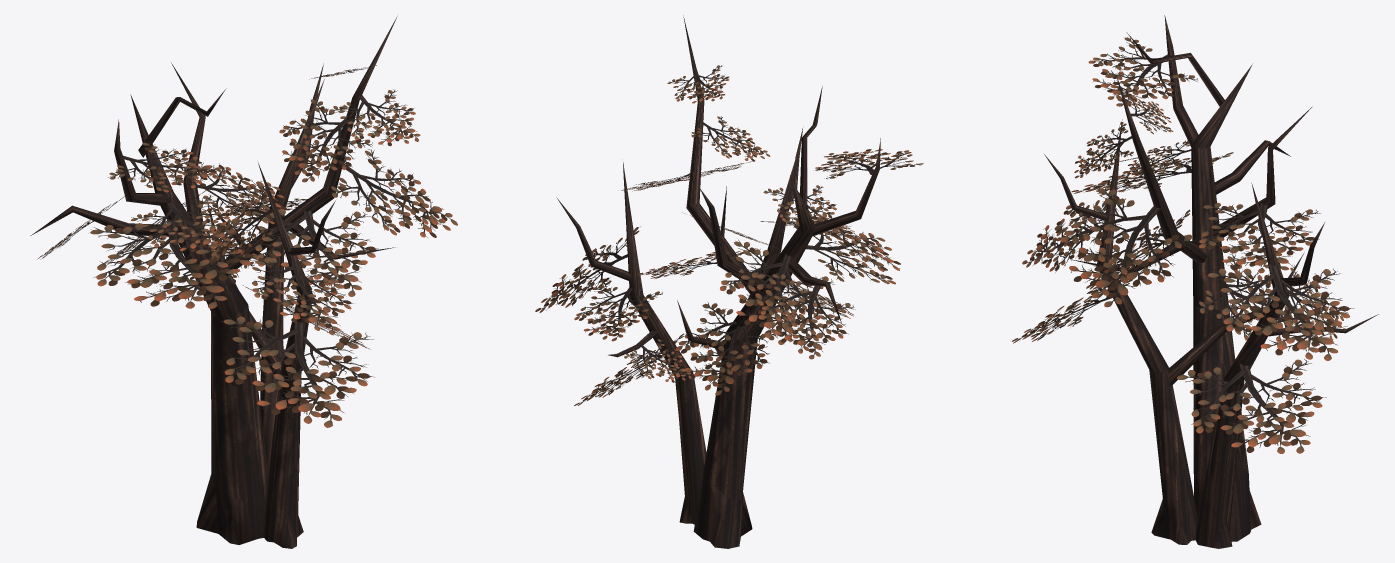
File: plant_tree_02_02.fbx
3 views of the same model, side by side, from view 1: azimuth 30°, elevation 25°; view 2: azimuth 150°, elevation 25°; view 3: azimuth 270°, elevation 25° (orthographic). The views are drawn at different scales.
Visible parts, largest first — view 1: tree_02_02.001, tree_02_02; view 2: tree_02_02.001, tree_02_02; view 3: tree_02_02, tree_02_02.001.
Part boxes in pixels (x1,y1,x2,y2): tree_02_02.001: (37,65,457,427); tree_02_02: (30,16,397,548); tree_02_02.001: (535,65,923,405); tree_02_02: (556,15,880,548); tree_02_02: (1044,15,1378,548); tree_02_02.001: (1012,37,1354,453).
Bounding box in the file's own units: 420 × 520 × 377.
2 materials, 2 textured.
